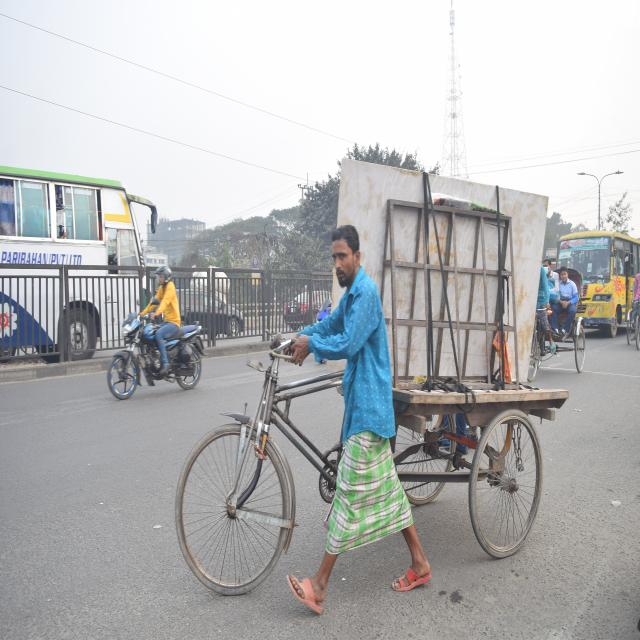bus: (0, 154, 148, 360), (555, 232, 640, 336)
car: (182, 284, 247, 338), (284, 285, 331, 331)
motorbike: (111, 304, 203, 406)
